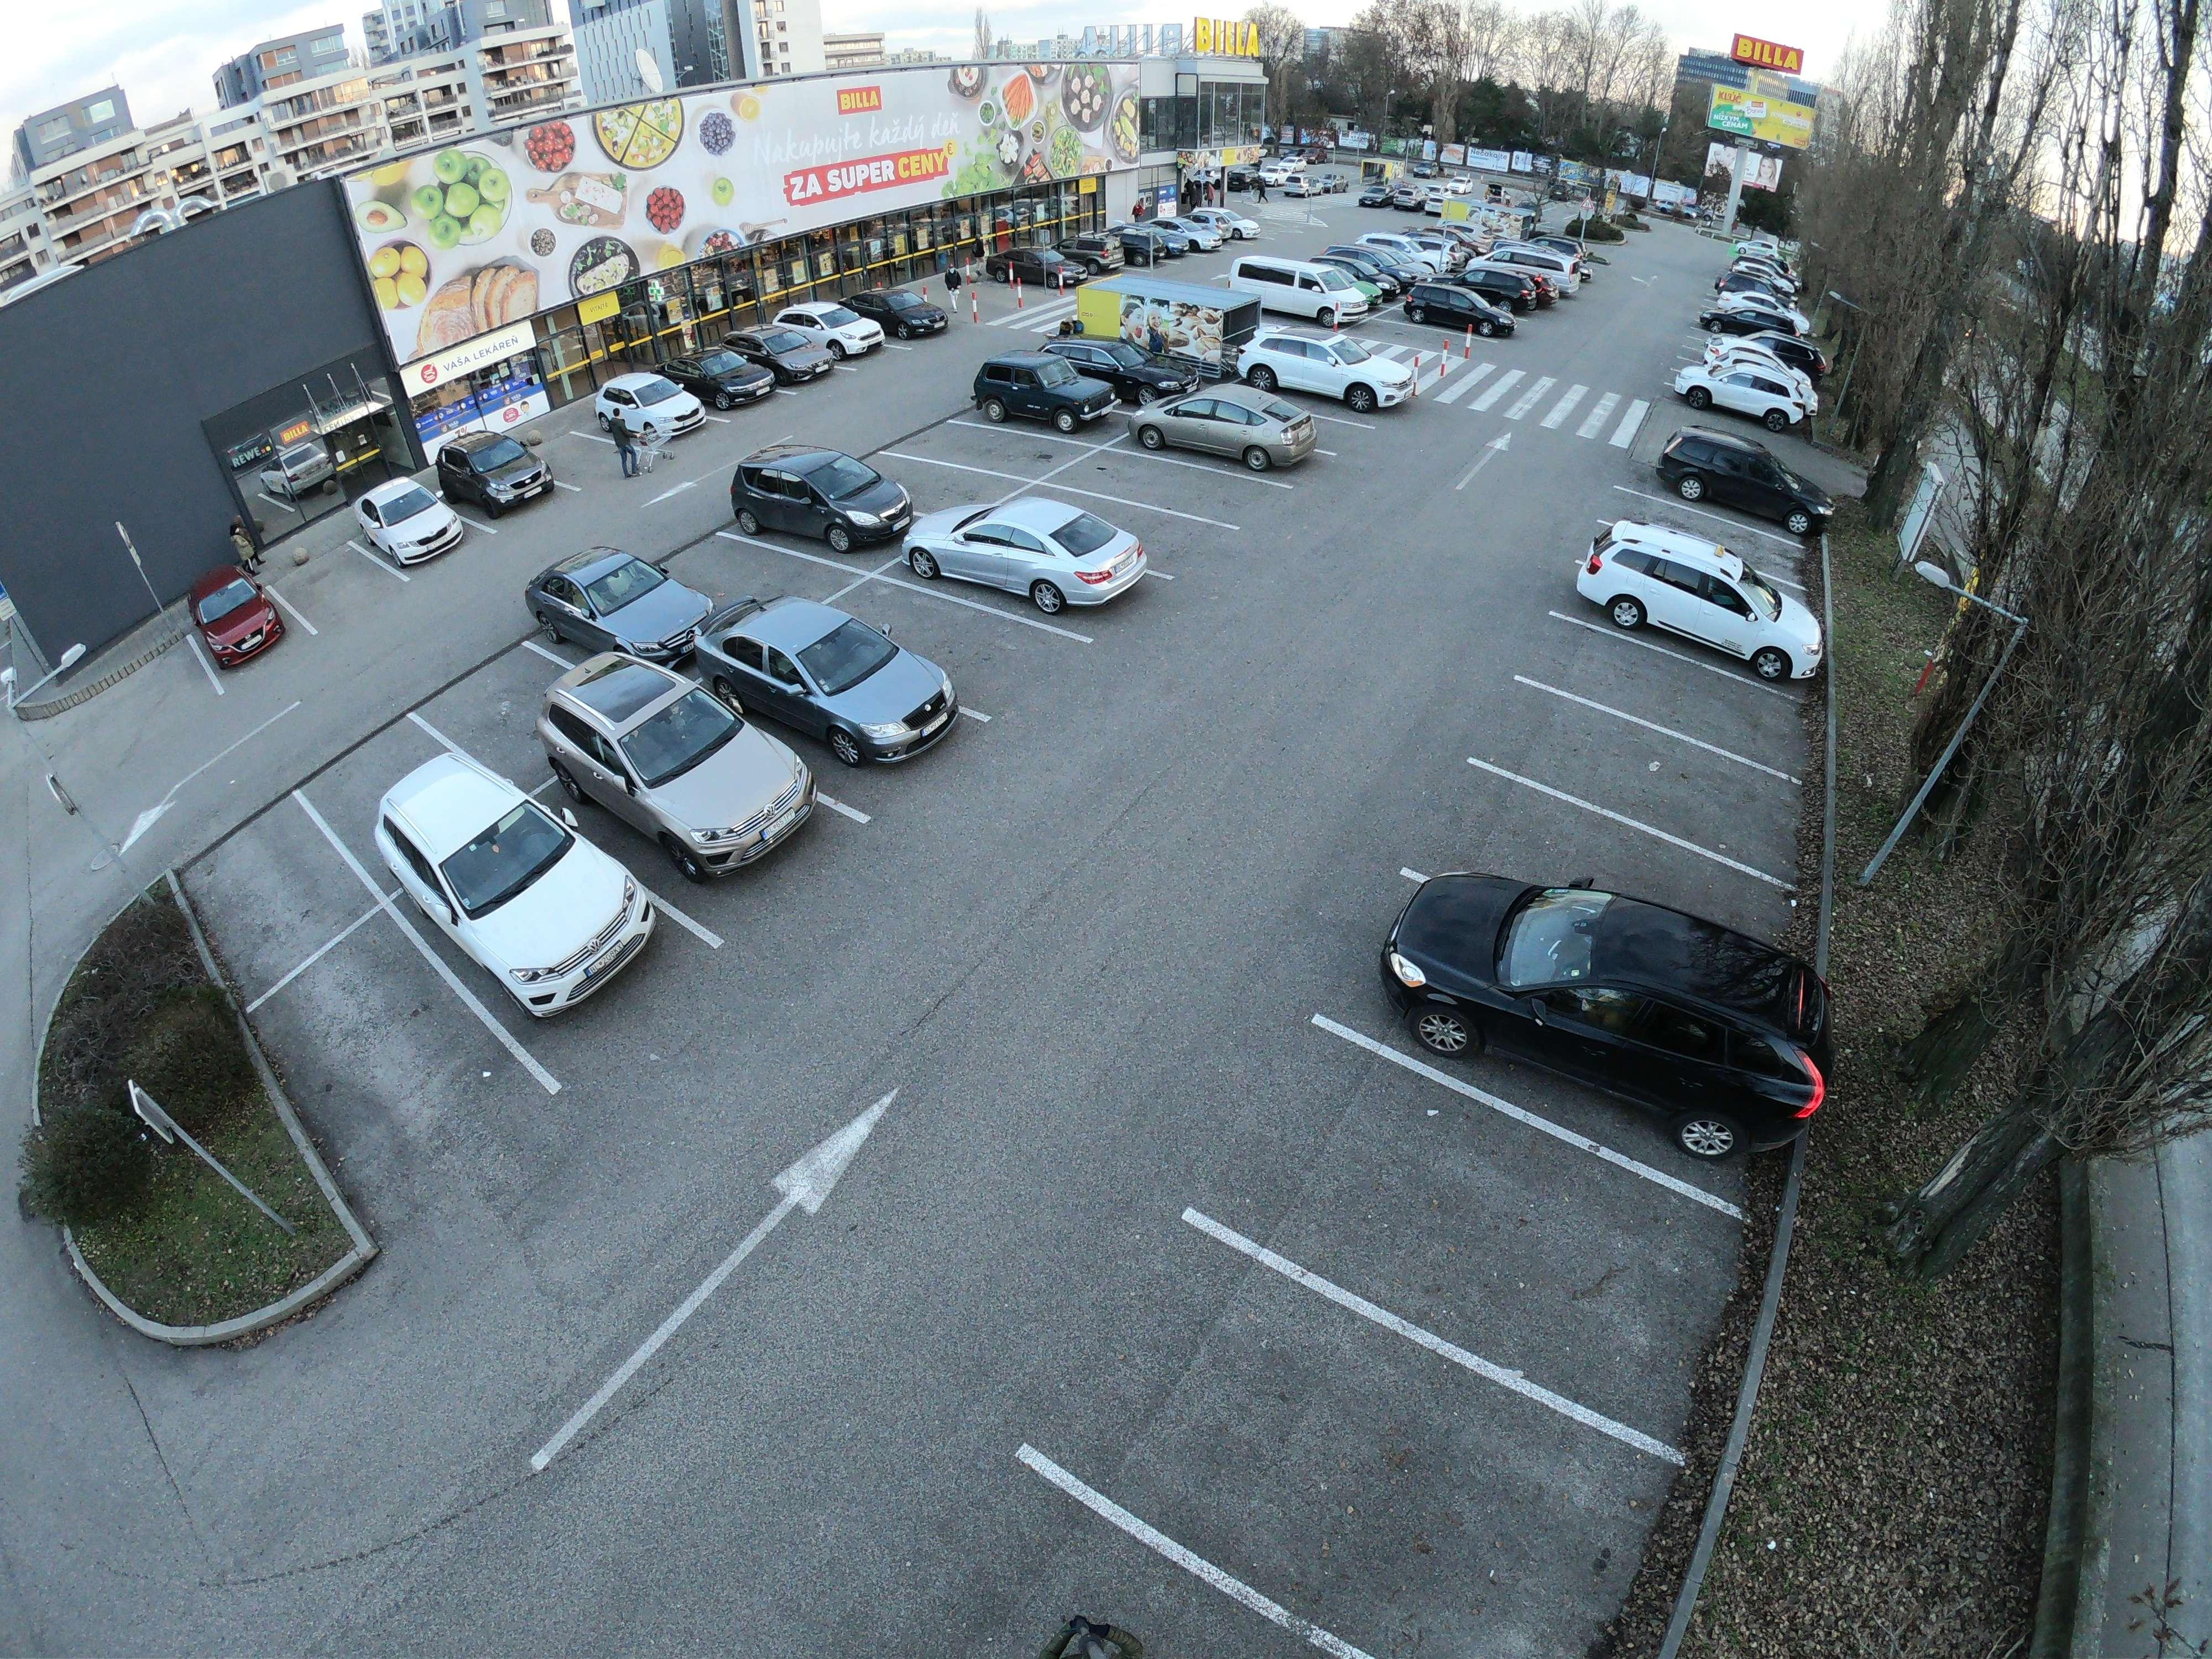empty: (1374, 863, 1825, 1141), (374, 742, 660, 1012), (533, 657, 817, 870), (704, 599, 972, 760), (1573, 528, 1827, 674), (921, 488, 1151, 608), (730, 448, 932, 552), (1642, 436, 1832, 533), (540, 549, 719, 647), (1132, 387, 1322, 474), (1240, 326, 1430, 413), (1214, 251, 1379, 326), (967, 361, 1130, 436), (1676, 350, 1822, 432), (357, 476, 475, 566), (444, 434, 570, 516), (200, 565, 291, 664), (597, 375, 716, 448), (1049, 335, 1169, 392), (1388, 288, 1512, 340), (1467, 253, 1576, 310), (683, 350, 780, 413), (737, 328, 838, 383), (862, 291, 963, 343), (1707, 298, 1808, 349)
occupied: (1188, 1358, 1470, 1553), (1329, 1141, 1599, 1295), (277, 988, 458, 1108), (1487, 816, 1684, 908), (1554, 734, 1712, 816), (202, 854, 345, 939), (1592, 647, 1730, 721), (1618, 490, 1759, 559), (451, 674, 542, 749), (1087, 512, 1204, 570), (871, 603, 979, 659), (326, 753, 420, 810), (294, 563, 380, 615), (874, 457, 965, 505), (704, 551, 792, 599), (1104, 467, 1200, 509), (963, 434, 1054, 474), (552, 434, 629, 481)
